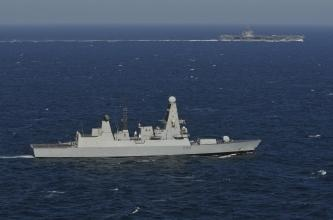warship: (25, 97, 263, 158), (216, 21, 304, 43)
